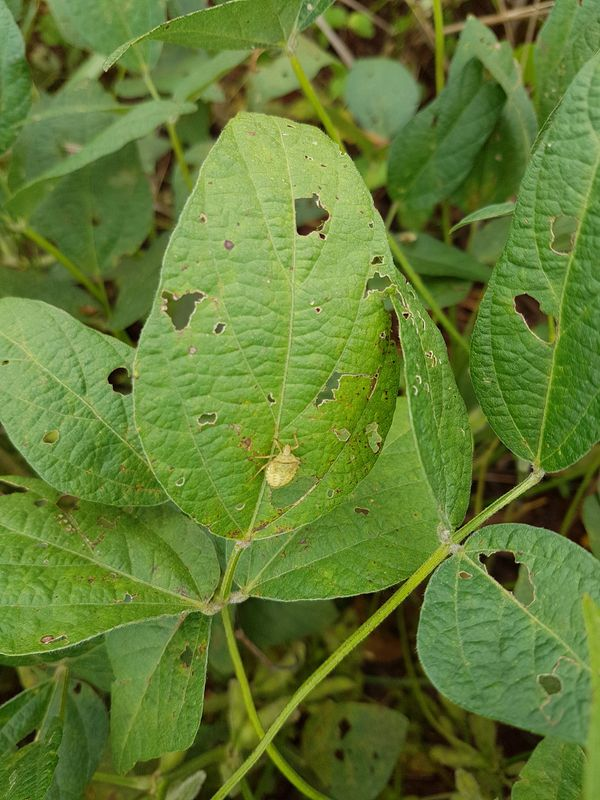Euschistus_heros_ninfa: (248, 428, 312, 500)
